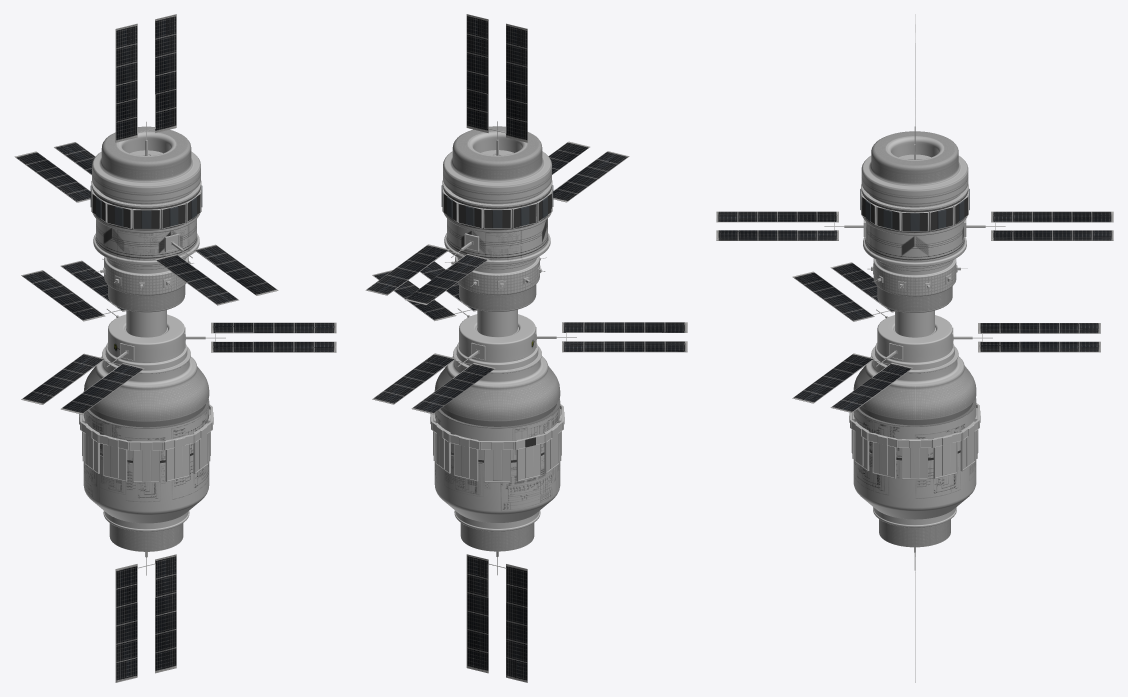
Rendered from station.glb.
3 views of the same model, side by side, from view 1: azimuth 30°, elevation 25°; view 2: azimuth 150°, elevation 25°; view 3: azimuth 270°, elevation 25° (orthographic). The views are drawn at different scales.
Parts seen in each view (by area): view 1: Cloner_6; view 2: Cloner_6; view 3: Cloner_6.
Boxes of the visible parts, x1,y1,x2,y2 form: Cloner_6: (14, 14, 336, 682); Cloner_6: (365, 14, 687, 682); Cloner_6: (716, 14, 1113, 682).
Bounding box in the file's own units: 2.9 × 5.74 × 3.23.
1 material, 1 textured.
